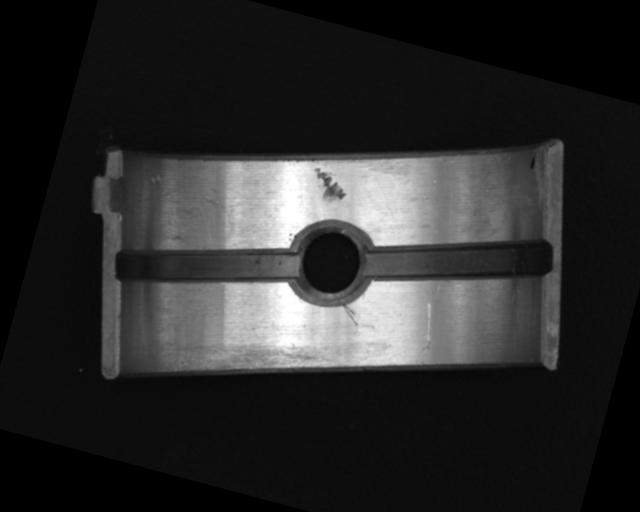blot: (527, 151, 538, 172)
bruise: (305, 166, 351, 208), (202, 194, 227, 211), (147, 171, 163, 185)
gap: (363, 199, 552, 322), (111, 213, 301, 322)
hole: (280, 216, 379, 314)
nick: (409, 301, 440, 368), (338, 304, 362, 326)
scratch: (166, 309, 339, 412)
